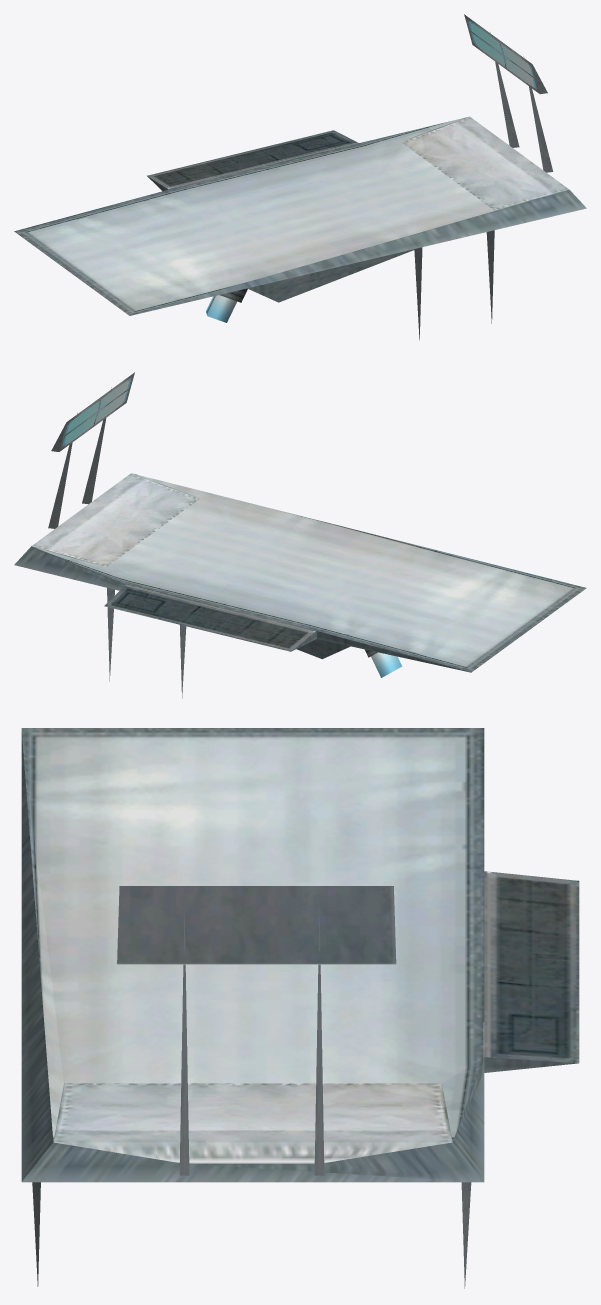
Rendered from eqp_camping_cot_s3_l2.fbx.
3 views of the same model, one above another, from view 1: azimuth 30°, elevation 25°; view 2: azimuth 150°, elevation 25°; view 3: azimuth 270°, elevation 25° (orthographic). The views are drawn at different scales.
Parts seen in each view (by area): view 1: mesh_node; view 2: mesh_node; view 3: mesh_node.
Boxes of the visible parts, x1=… form: mesh_node: x1=14, y1=14, x2=586, y2=340; mesh_node: x1=14, y1=372, x2=586, y2=698; mesh_node: x1=21, y1=728, x2=579, y2=1288.
Bounding box in the file's own units: 1.97 × 0.9461 × 1.03.
